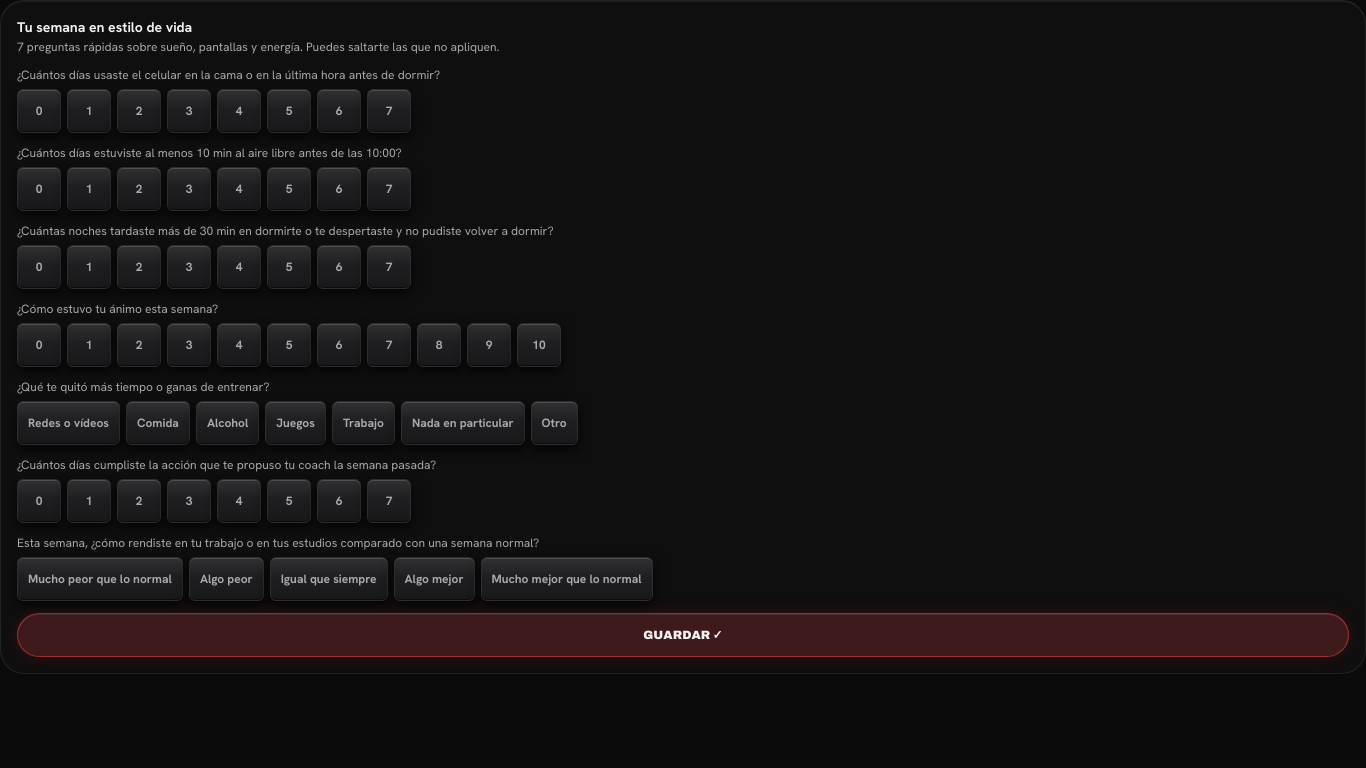
it: TarjetaVidaCard › sin contestar ninguna, avisa en vez de guardar vacío
The width and height of the screenshot is (1366, 768).
expect the text "Tu semana en estilo de vida" is shown: met, box [17,18,192,36]
Click the button "Guardar ✓": (683, 635) [17,613,1349,657]
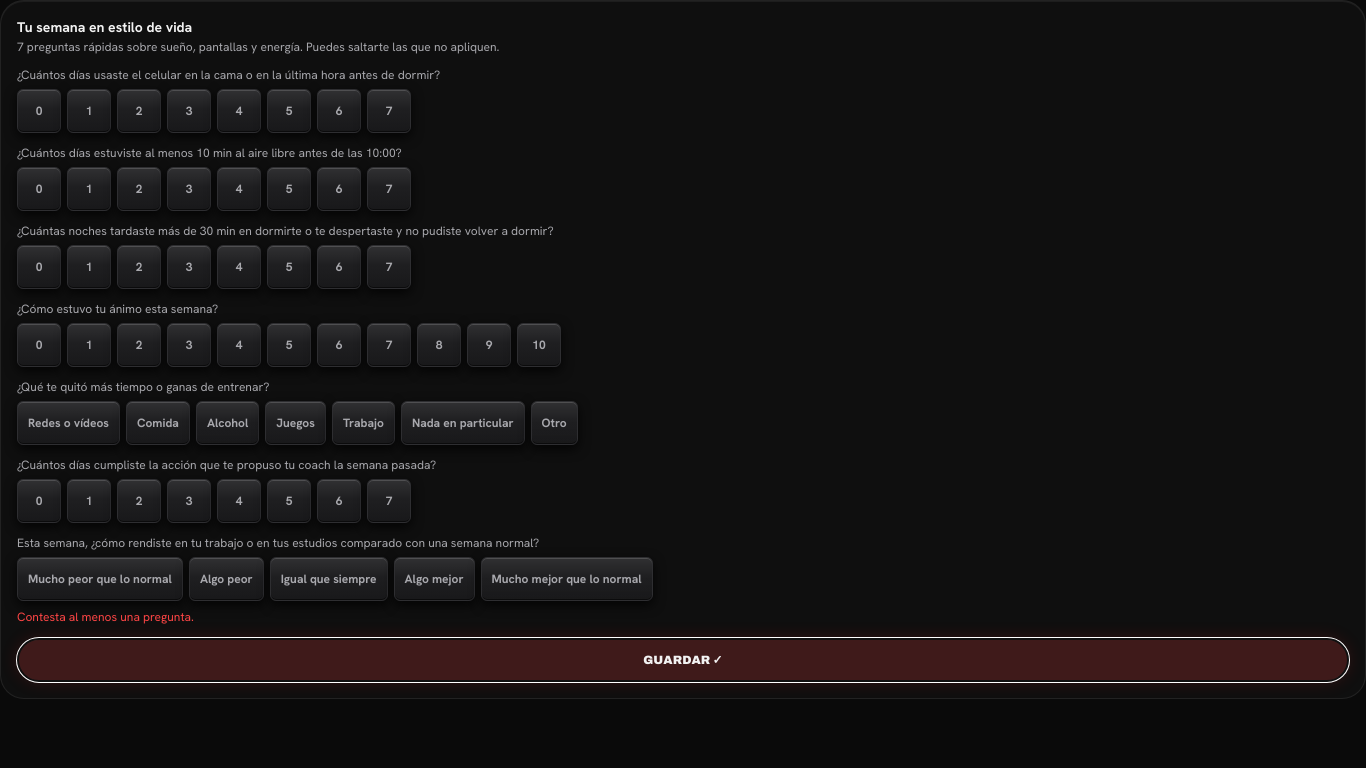
expect the message "Contesta al menos una pregunta." is shown: met, box [17,609,194,625]
